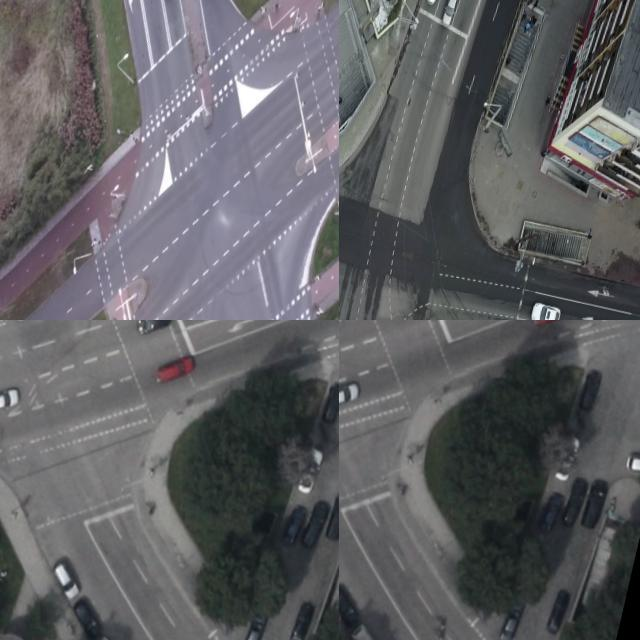UAI: (65, 593, 109, 640), (151, 347, 197, 391), (298, 497, 331, 550), (579, 477, 609, 531), (47, 560, 84, 602), (295, 445, 325, 496), (561, 474, 590, 526), (544, 587, 572, 637), (497, 594, 527, 640), (285, 597, 316, 640), (537, 489, 564, 534), (339, 582, 364, 629), (281, 503, 307, 547), (576, 368, 602, 412), (339, 373, 362, 416), (342, 619, 388, 640), (322, 487, 339, 542), (319, 379, 339, 424), (241, 608, 268, 640), (0, 380, 21, 420), (133, 320, 172, 339), (527, 300, 561, 320), (439, 0, 462, 28), (529, 320, 575, 334)
